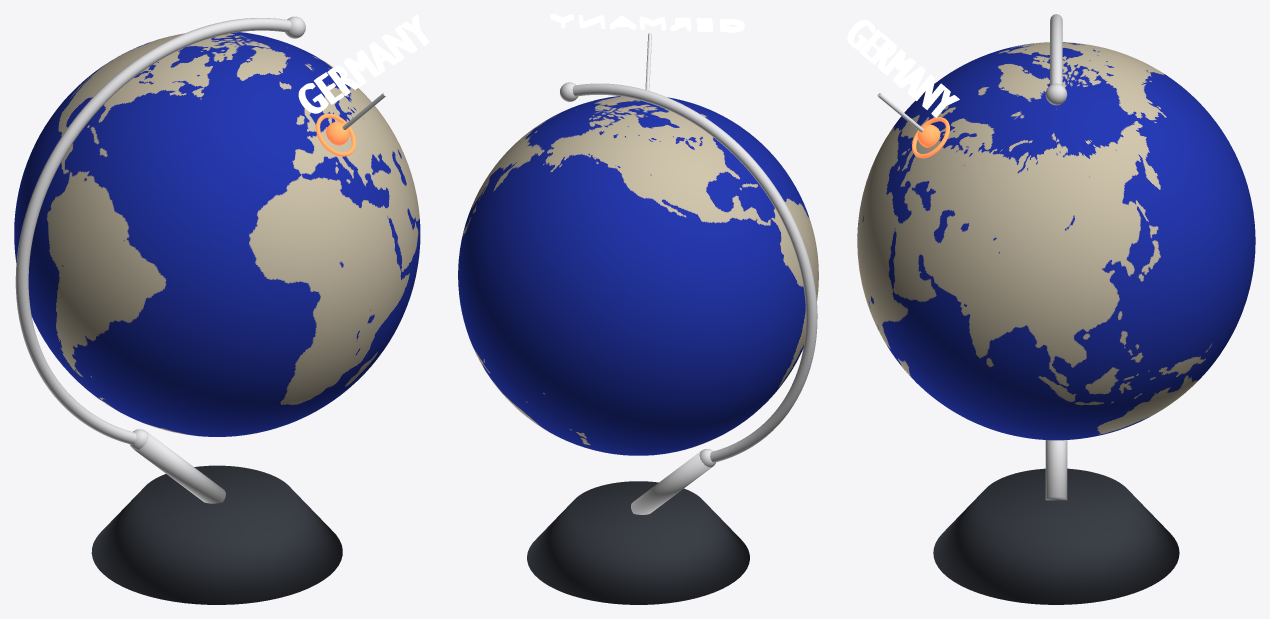
File: globe.glb
3 views of the same model, side by side, from view 1: azimuth 30°, elevation 25°; view 2: azimuth 150°, elevation 25°; view 3: azimuth 270°, elevation 25° (orthographic). The views are drawn at different scales.
Parts seen in each view (by area): view 1: Dunya, Globus_Taban, Meridyen, Germany_Yazi, Globus_Boyun; view 2: Dunya, Globus_Taban, Meridyen, Globus_Boyun, Germany_Yazi; view 3: Dunya, Globus_Taban, Germany_Yazi, Globus_Boyun, Meridyen.
Boxes of the visible parts, x1,y1,x2,y2 form: Dunya: (14,32,420,436); Globus_Taban: (91,465,342,604); Meridyen: (15,18,291,444); Germany_Yazi: (298,14,429,113); Globus_Boyun: (134,432,225,503); Dunya: (458,96,818,455); Globus_Taban: (527,481,749,604); Meridyen: (572,83,817,462); Globus_Boyun: (631,451,711,514); Germany_Yazi: (550,14,744,32); Dunya: (857,42,1255,440); Globus_Taban: (933,468,1179,604); Germany_Yazi: (847,20,959,117); Globus_Boyun: (1045,440,1067,500); Meridyen: (1050,14,1062,85).
Bounding box in the file's own units: 0.2355 × 0.3219 × 0.2254.
Materials: 6 (1 with a texture image).
